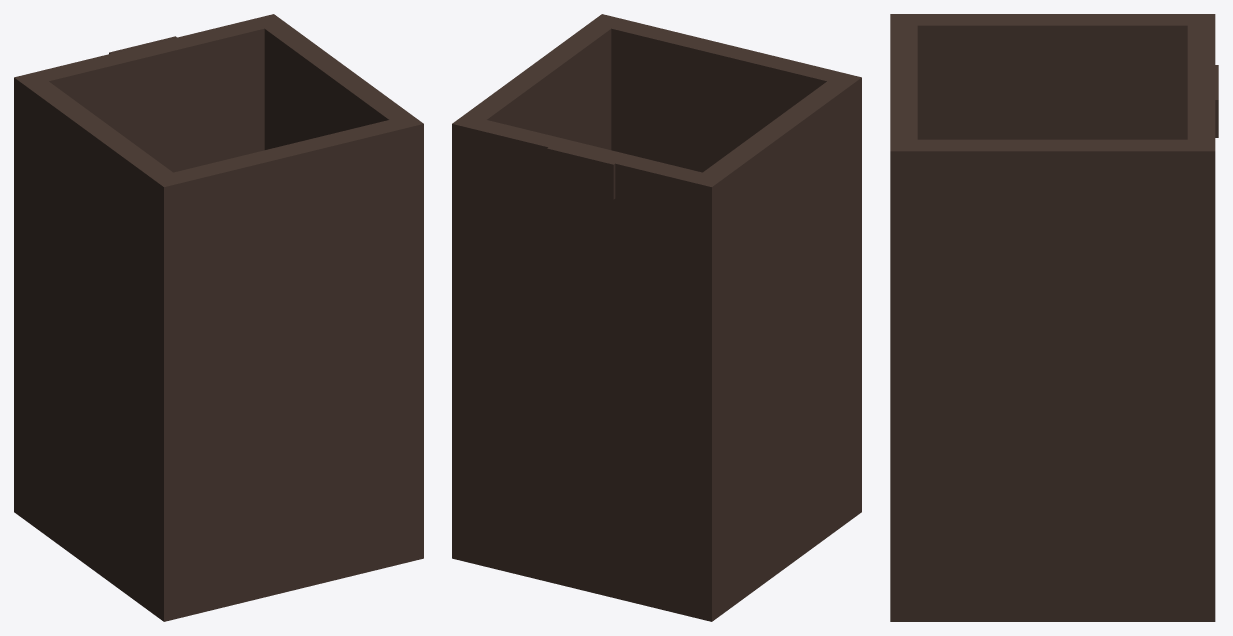
The model's file is Itr_Trashcan2_Body_06.FBX.
The picture shows the model from 3 angles, left to right: view 1: azimuth 30°, elevation 25°; view 2: azimuth 150°, elevation 25°; view 3: azimuth 270°, elevation 25°; orthographic projection. The views are drawn at different scales.
Parts seen in each view (by area): view 1: Itr_Trashcan2_Body_06; view 2: Itr_Trashcan2_Body_06; view 3: Itr_Trashcan2_Body_06.
Boxes of the visible parts, x1,y1,x2,y2 form: Itr_Trashcan2_Body_06: (14, 14, 423, 621); Itr_Trashcan2_Body_06: (452, 14, 861, 621); Itr_Trashcan2_Body_06: (890, 14, 1218, 621).
Bounding box in the file's own units: 14.85 × 23.74 × 15.01.
